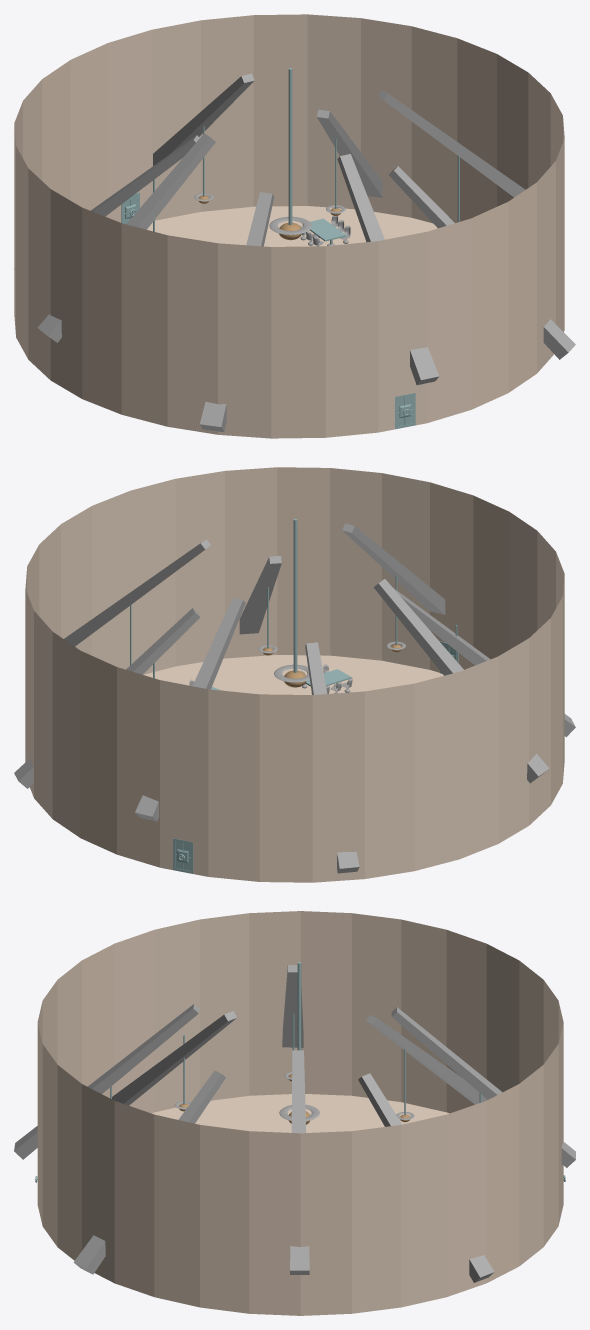
The model's file is AtriumColored01.fbx.
3 renders of one model, top to bottom at view 1: azimuth 30°, elevation 25°; view 2: azimuth 150°, elevation 25°; view 3: azimuth 270°, elevation 25°, orthographic. The views are drawn at different scales.
Parts seen in each view (by area): view 1: Wall, polySurface31, polySurface29, polySurface33, polySurface28, polySurface30, polySurface32, polySurface35, polySurface34, polySurface1, Door1; view 2: Wall, polySurface31, polySurface30, polySurface29, polySurface28, polySurface32, polySurface33, polySurface35, polySurface1, polySurface34, Door03; view 3: Wall, polySurface29, polySurface30, polySurface35, polySurface28, polySurface34, polySurface33, polySurface32, polySurface31, polySurface1.
Boxes of the visible parts, x1,y1,x2,y2 form: Wall: [14, 14, 564, 438]; polySurface31: [37, 133, 215, 342]; polySurface29: [337, 154, 439, 385]; polySurface33: [389, 166, 575, 359]; polySurface28: [378, 90, 525, 197]; polySurface30: [153, 73, 254, 165]; polySurface32: [317, 109, 382, 197]; polySurface35: [199, 192, 274, 431]; polySurface34: [90, 135, 199, 216]; polySurface1: [269, 68, 311, 240]; Door1: [395, 393, 415, 429]; Wall: [25, 467, 564, 882]; polySurface31: [373, 579, 549, 783]; polySurface30: [135, 598, 245, 821]; polySurface29: [342, 523, 445, 614]; polySurface28: [64, 539, 210, 646]; polySurface32: [14, 608, 200, 788]; polySurface33: [239, 556, 281, 634]; polySurface35: [393, 588, 575, 737]; polySurface1: [274, 518, 309, 687]; polySurface34: [305, 642, 359, 873]; Door03: [173, 838, 193, 873]; Wall: [37, 911, 563, 1315]; polySurface29: [14, 1004, 199, 1159]; polySurface30: [391, 1007, 575, 1167]; polySurface35: [112, 1011, 236, 1105]; polySurface28: [290, 1050, 309, 1274]; polySurface34: [366, 1015, 487, 1104]; polySurface33: [73, 1070, 225, 1274]; polySurface32: [358, 1073, 494, 1282]; polySurface31: [282, 965, 303, 1047]; polySurface1: [279, 962, 319, 1124].
Bounding box in the file's own units: 39.93 × 20.19 × 40.25.
